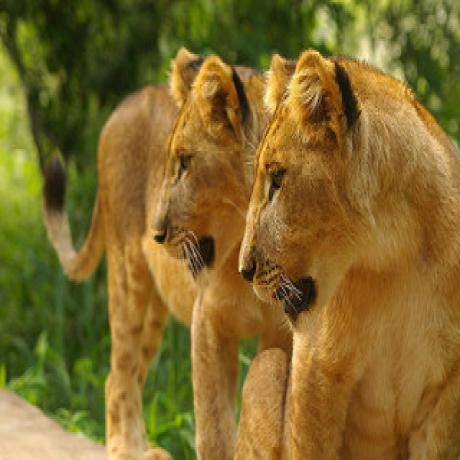Lion: (238, 45, 460, 459), (52, 43, 258, 460)
